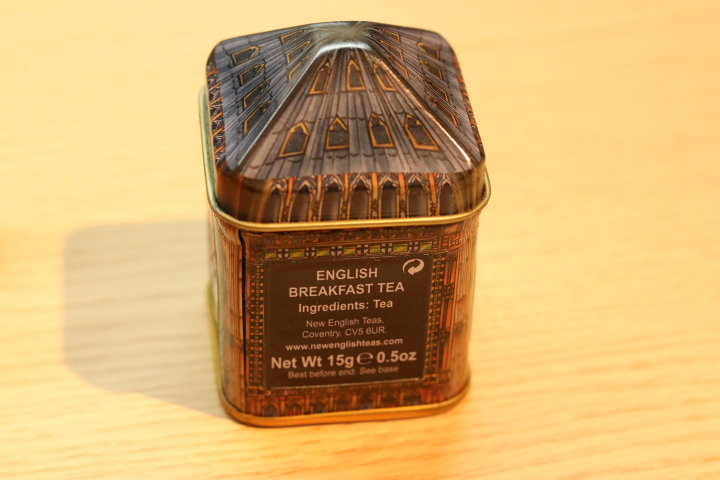Big Ben: (176, 11, 517, 432)
